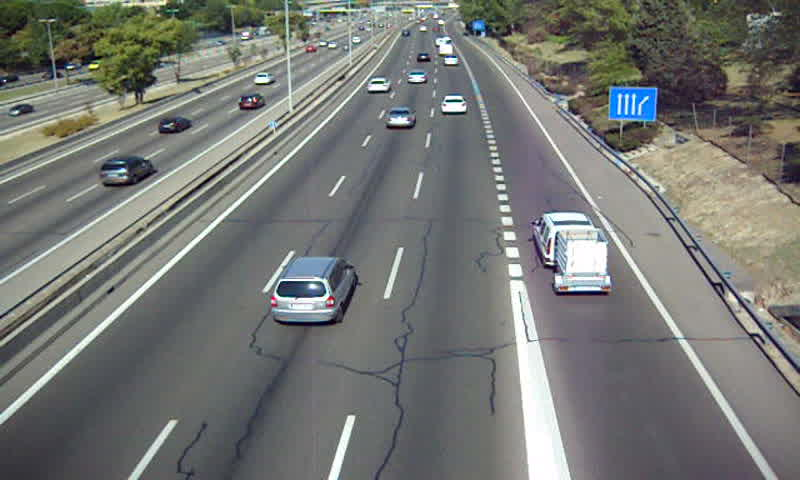car: (270, 257, 356, 323), (384, 108, 416, 130), (441, 95, 467, 115), (367, 77, 391, 94), (405, 70, 428, 85), (444, 54, 460, 66)
van: (531, 212, 597, 269)
